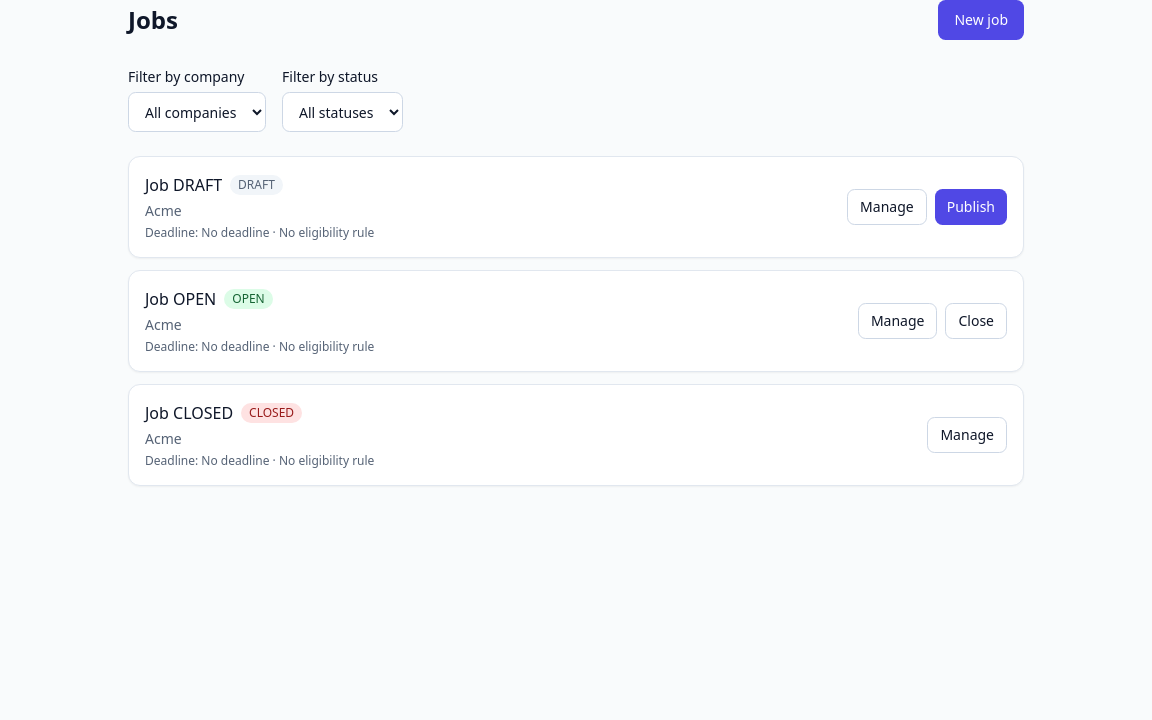
it: AdminJobsPage › closes after confirmation and surfaces a server error
Click the button with aria-label "Close job Job OPEN".
click(976, 321)  # box [946,303,1007,339]
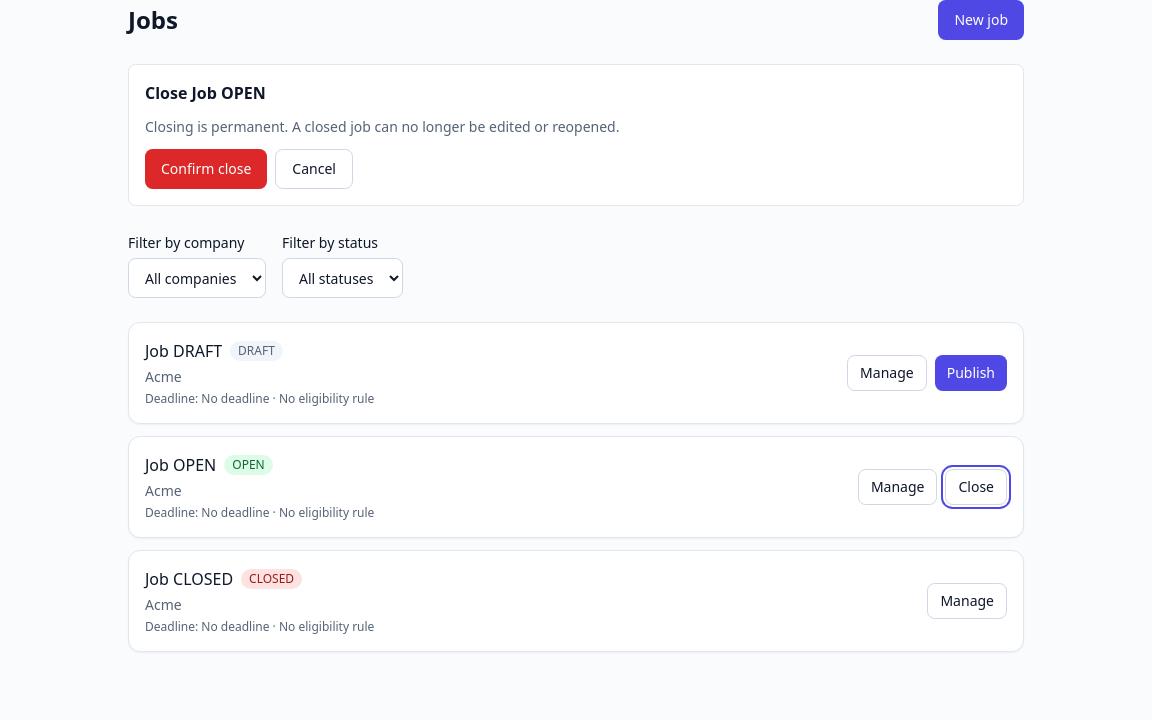
Click the button "Confirm close".
click(206, 169)  # box [145,149,267,189]
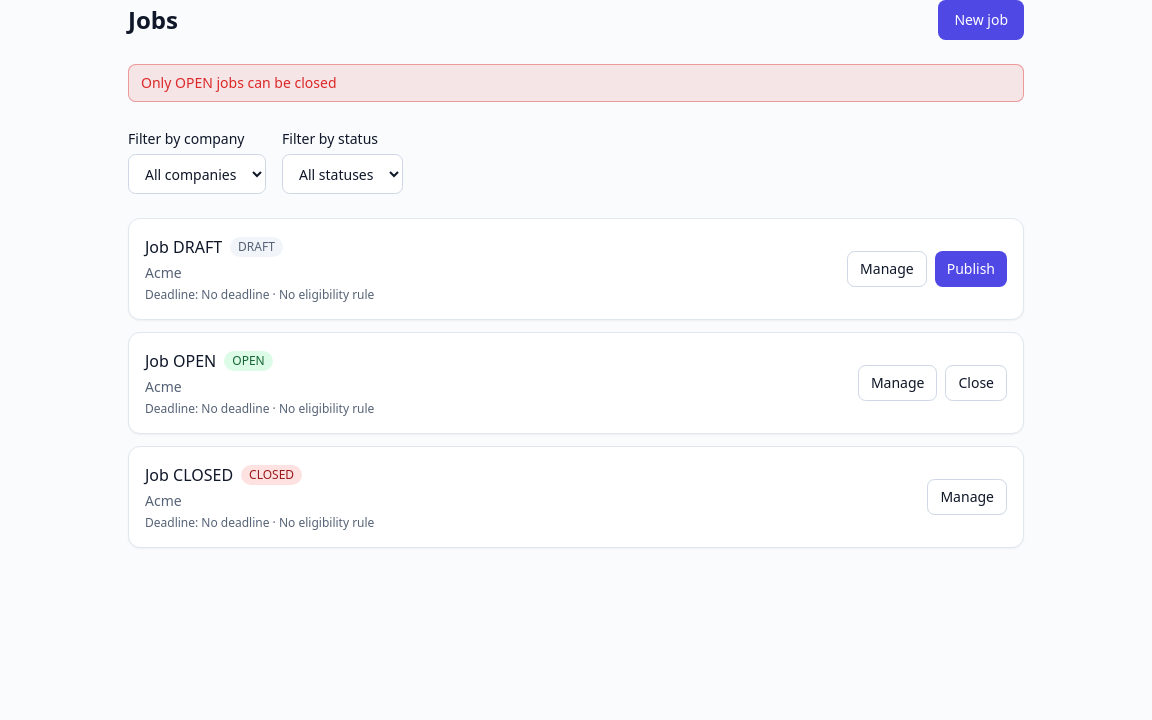
Result: the message reads "Only OPEN jobs can be closed" at [141,73,336,92]
